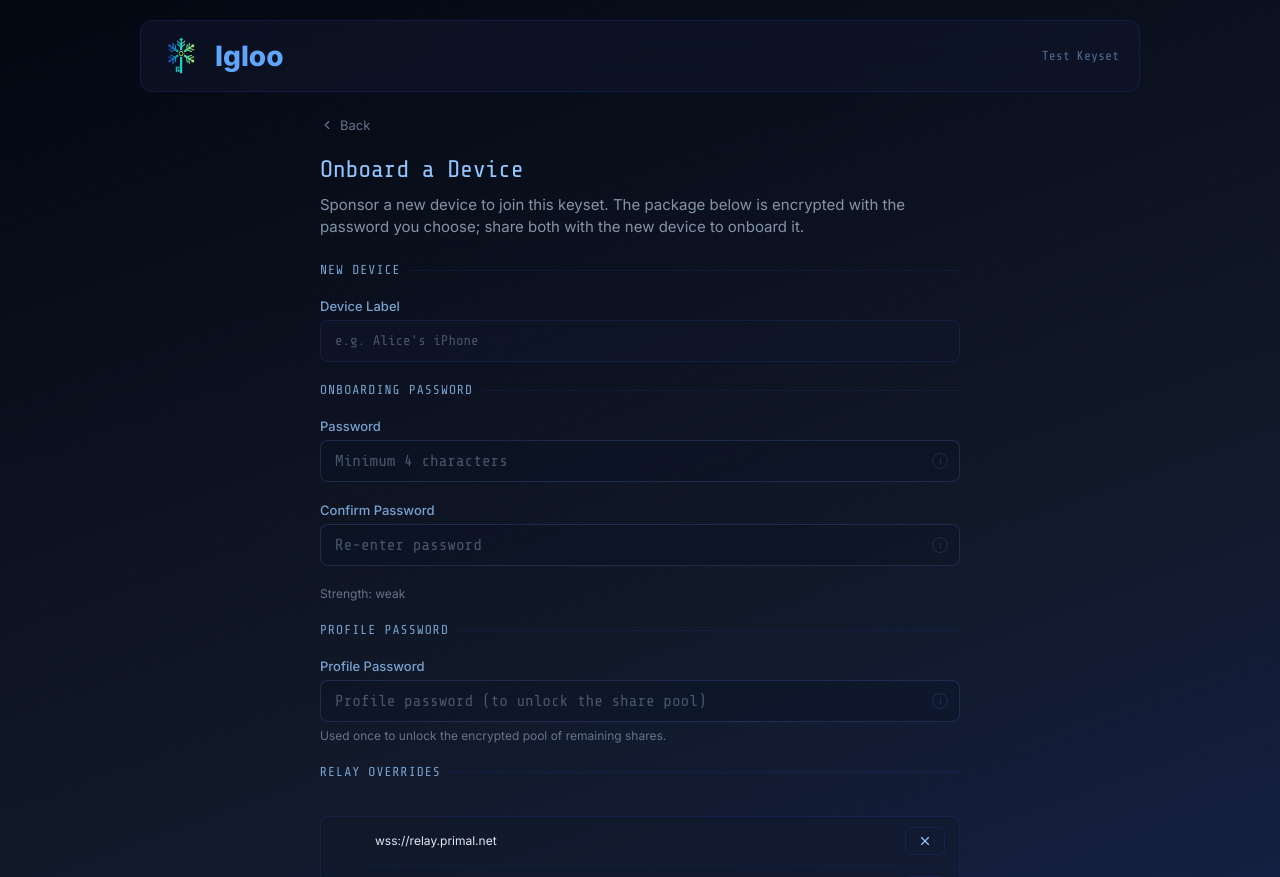
Test: OnboardSponsorConfigScreen — VAL-ONBOARD-003 / 019 / 021 / 024 › shows duplicate-label warning when label matches the active device name (VAL-ONBOARD-018)
This screenshot has width=1280, height=877.
Type "Alice iPhone" into the field with test id "onboard-sponsor-label-input" at (640,341), box [320,320,960,362]
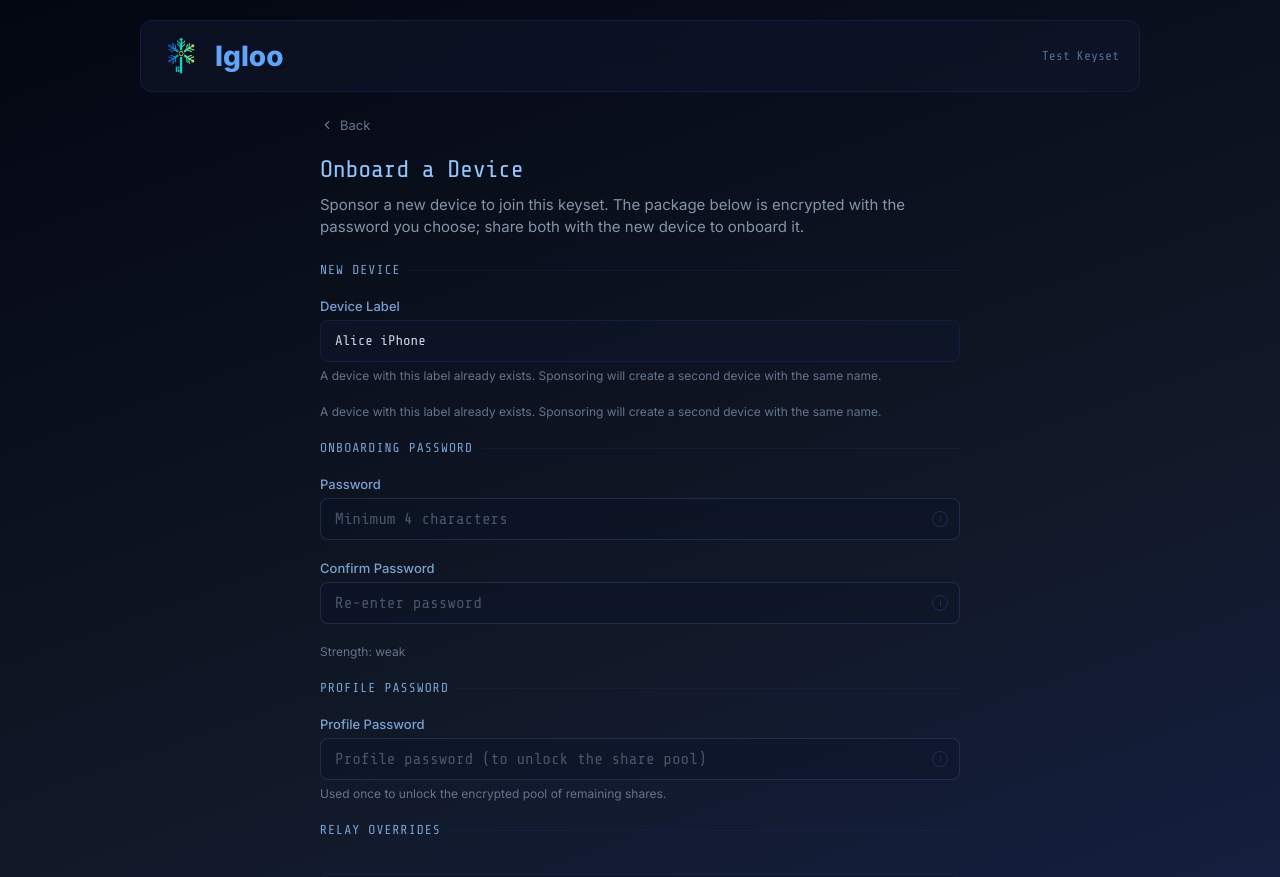
Expected: the text with test id "onboard-sponsor-duplicate-warning" is shown, [320,404,960,420]
